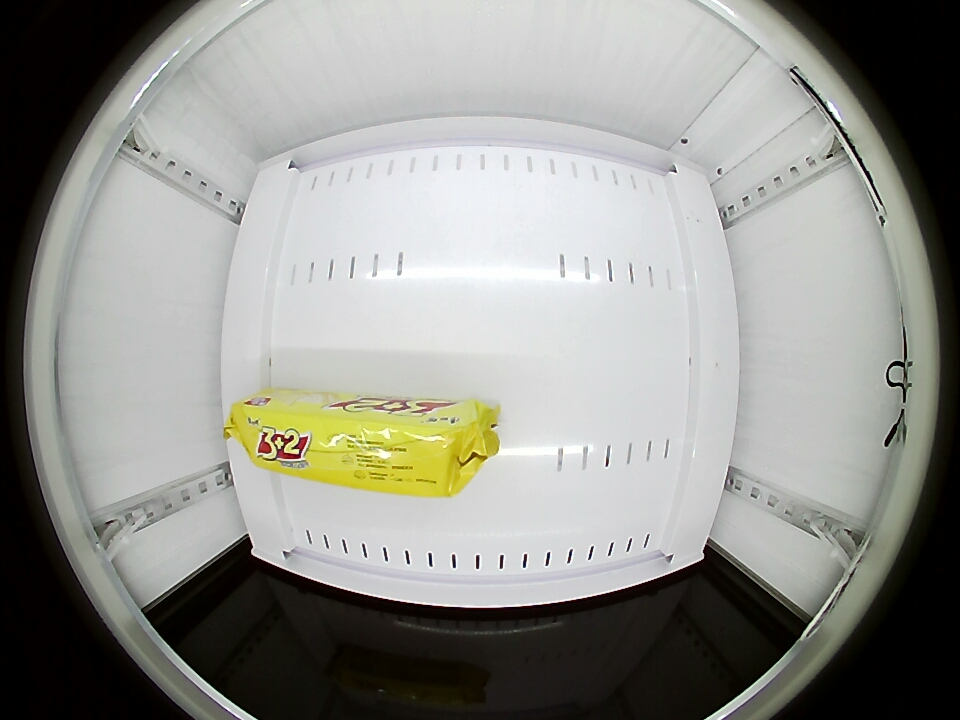3+2-2: (232, 394, 477, 498)
